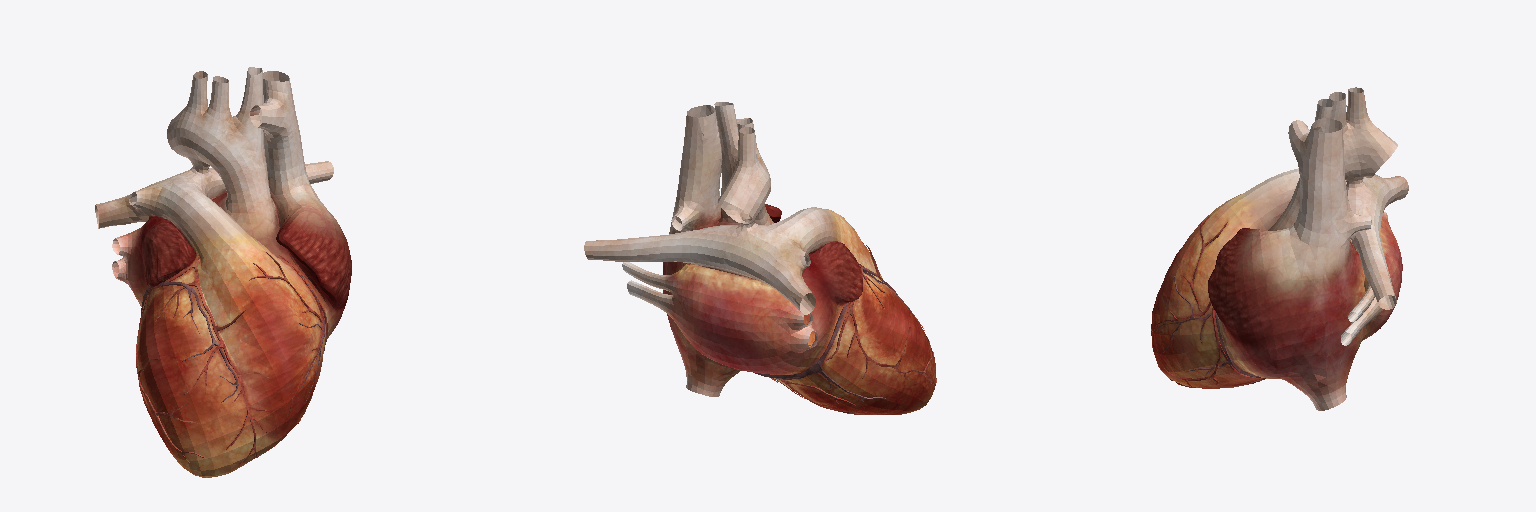
The picture shows the model from 3 angles: view 1: azimuth 30°, elevation 25°; view 2: azimuth 150°, elevation 25°; view 3: azimuth 270°, elevation 25°; orthographic projection.
Bounding box in the file's own units: 1.36 × 1.66 × 1.18.
Materials: 2 (1 with a texture image).